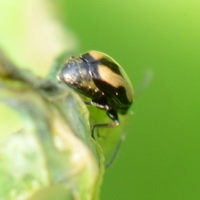insect: (57, 51, 133, 165)
